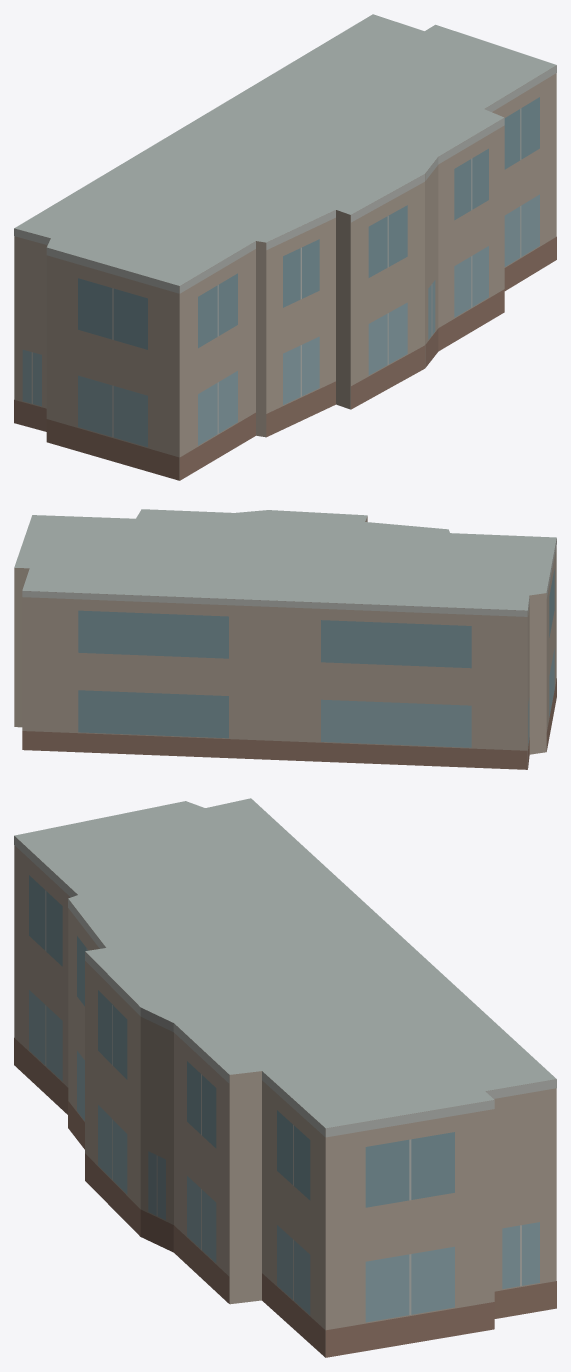
Rendered from survey-upis-32578662.glb.
3 renders of one model, top to bottom at view 1: azimuth 30°, elevation 25°; view 2: azimuth 150°, elevation 25°; view 3: azimuth 270°, elevation 25°, orthographic. The views are drawn at different scales.
Parts seen in each view (by area): view 1: survey-upis-32578662.tmp; view 2: survey-upis-32578662.tmp; view 3: survey-upis-32578662.tmp.
Boxes of the visible parts, box(x1,y1,x2,y2) form: survey-upis-32578662.tmp: box(14, 14, 556, 480); survey-upis-32578662.tmp: box(14, 509, 556, 769); survey-upis-32578662.tmp: box(14, 798, 556, 1357).
Size of the model in its own units: 18.84 by 6.1 by 13.09.
